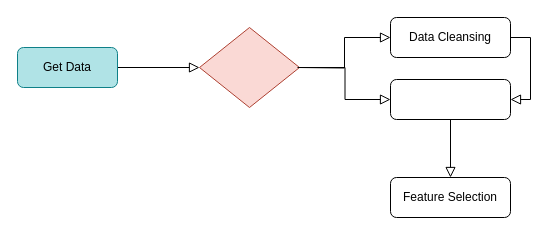
The diagram is 558 pixels wide and 235 high, and some of its shapes have lost their labels. Each missing label, with the centre of its shape:
Data Wrangling: [450,99]
EDA: [249,67]
